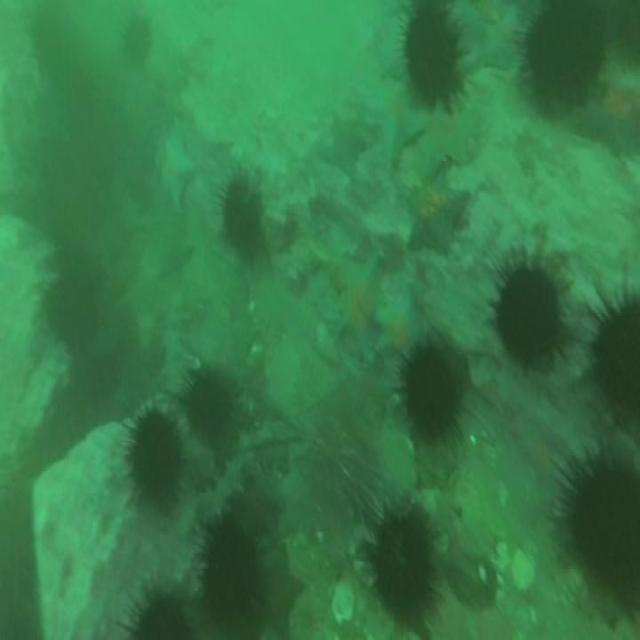echinus: (568, 460, 640, 591), (524, 6, 606, 109), (375, 510, 436, 628), (496, 264, 562, 363), (594, 292, 640, 417), (310, 419, 364, 518), (203, 523, 260, 613), (405, 11, 464, 96), (44, 268, 99, 358), (127, 410, 180, 502), (406, 348, 458, 433), (130, 591, 190, 640), (222, 177, 260, 254), (186, 370, 229, 438), (122, 11, 149, 60)
starfish: (363, 76, 423, 163), (406, 164, 471, 243), (419, 96, 477, 180), (334, 248, 380, 343), (583, 78, 640, 150), (258, 544, 300, 636), (376, 286, 428, 352), (159, 122, 195, 210), (329, 104, 364, 174), (160, 227, 192, 283)
